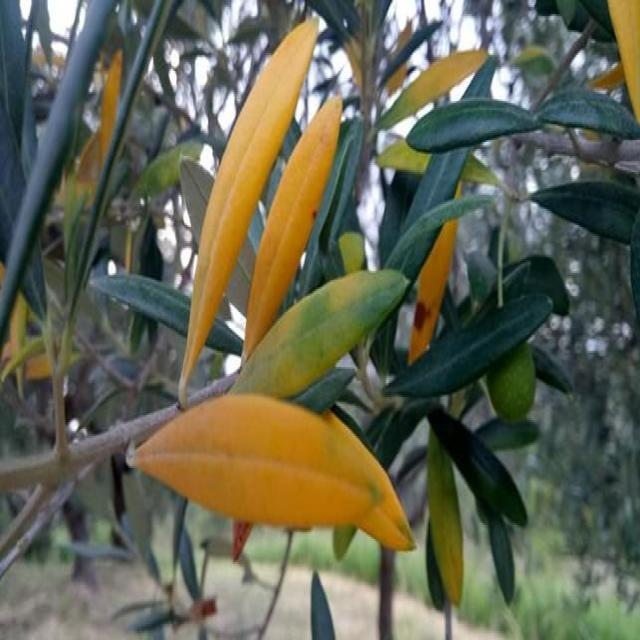OlivePeacockSpot: (180, 20, 318, 398), (136, 392, 386, 528), (244, 98, 340, 354), (235, 270, 409, 398), (408, 227, 451, 362)
